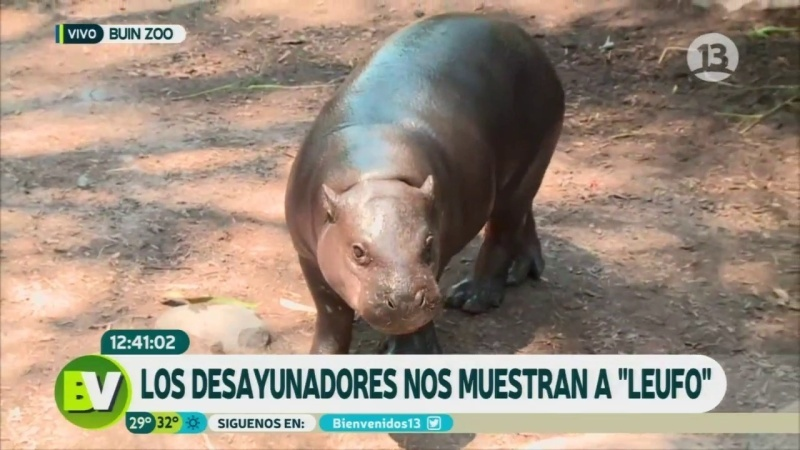hipopotamo: (265, 7, 563, 354)
